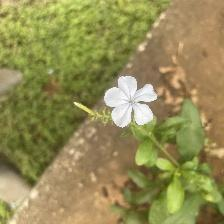chitrak: (103, 72, 159, 131)
